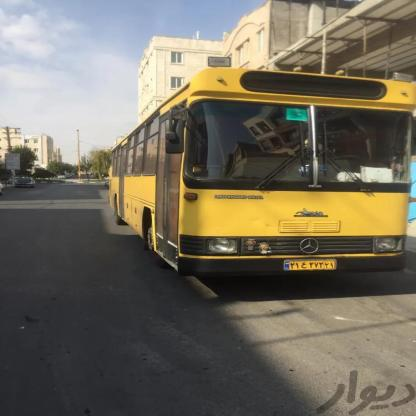Bus: (113, 52, 416, 297)
Car: (4, 167, 37, 194)
